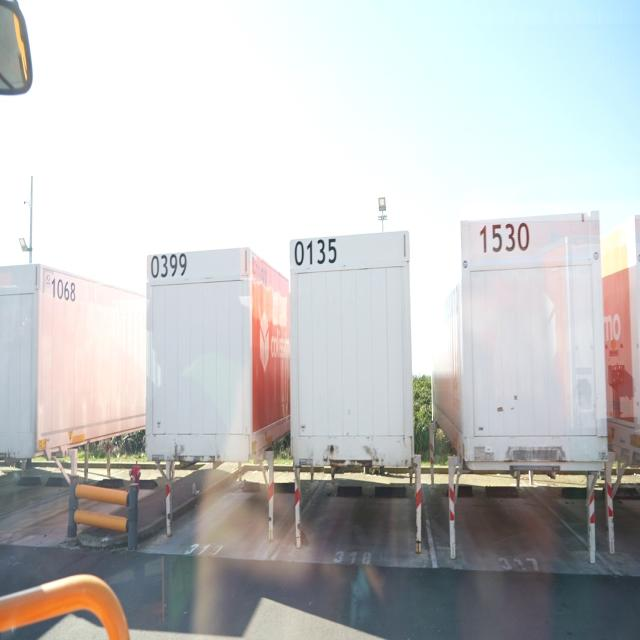Code: (475, 221, 533, 258), (291, 235, 342, 271), (147, 250, 190, 280), (47, 272, 76, 302)
